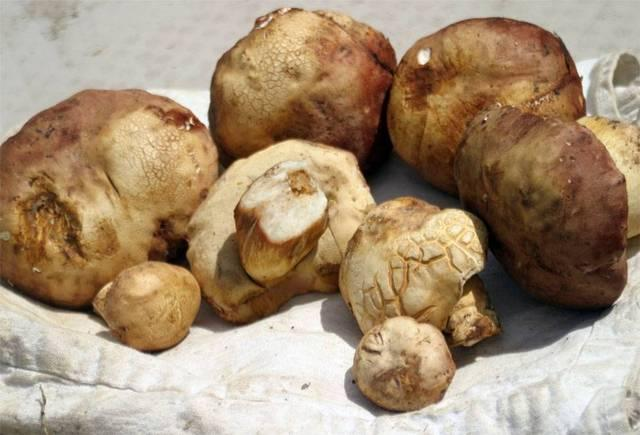Edible Mushroom: (1, 6, 638, 411), (0, 86, 219, 308), (452, 102, 629, 310), (184, 137, 376, 324), (386, 15, 586, 193), (207, 6, 397, 170), (337, 195, 502, 348)
